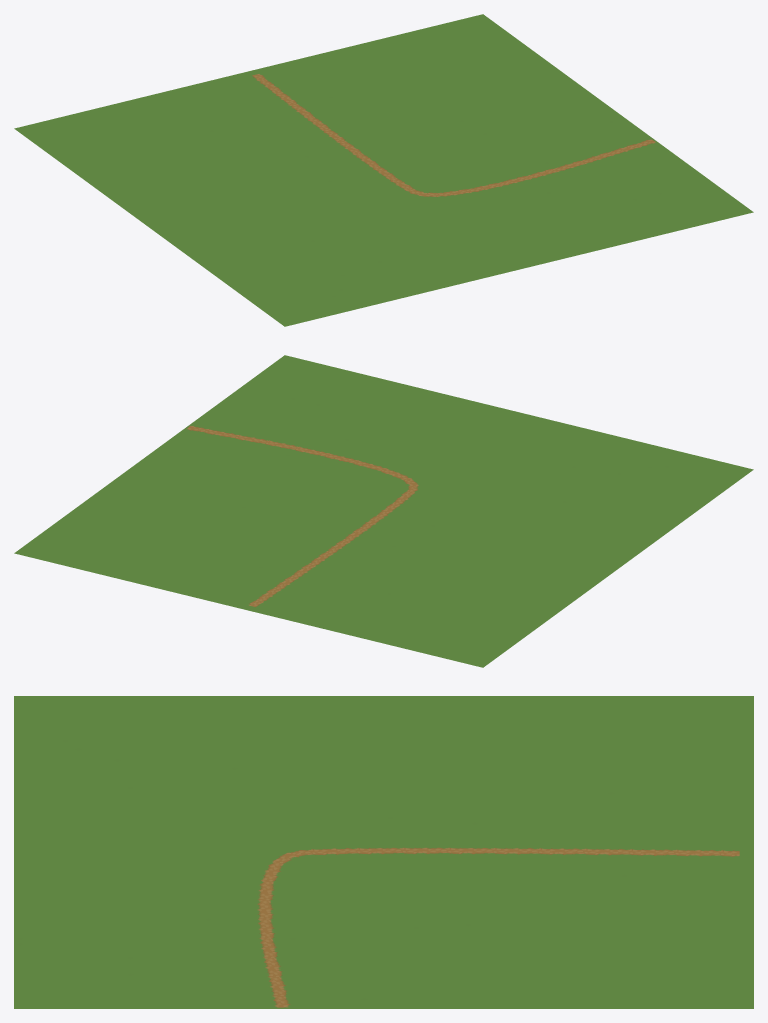
File: path_intro1.fbx
3 views of the same model, one above another, from view 1: azimuth 30°, elevation 25°; view 2: azimuth 150°, elevation 25°; view 3: azimuth 270°, elevation 25° (orthographic). The views are drawn at different scales.
Visible parts, largest first — view 1: groundPlaneBase, pathBase_lvl1.001; view 2: groundPlaneBase, pathBase_lvl1.001; view 3: groundPlaneBase, pathBase_lvl1.001.
Part boxes in pixels (x1,y1,x2,y2): groundPlaneBase: [14, 14, 753, 326]; pathBase_lvl1.001: [248, 73, 658, 198]; groundPlaneBase: [14, 355, 753, 667]; pathBase_lvl1.001: [185, 424, 421, 607]; groundPlaneBase: [14, 696, 753, 1008]; pathBase_lvl1.001: [253, 846, 739, 1007].
Size of the model in its own units: 1953 by 0.3477 by 1953.
